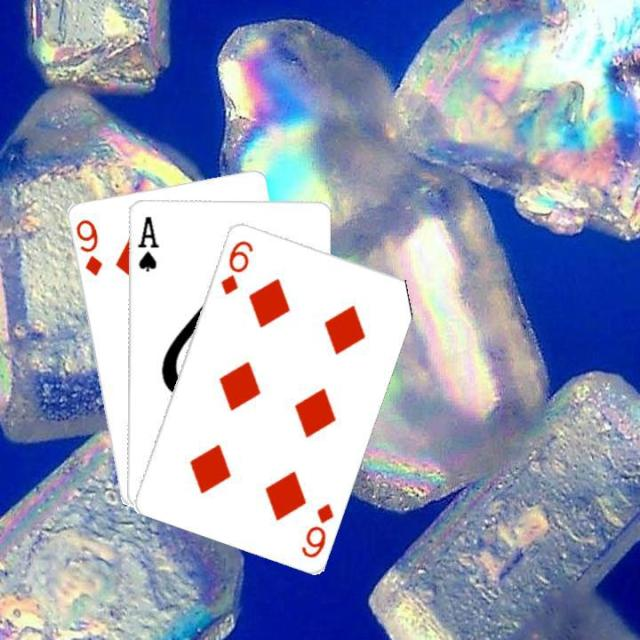6D: (216, 236, 255, 296), (297, 499, 335, 559)
9D: (72, 215, 104, 277)
AS: (132, 211, 160, 273)
